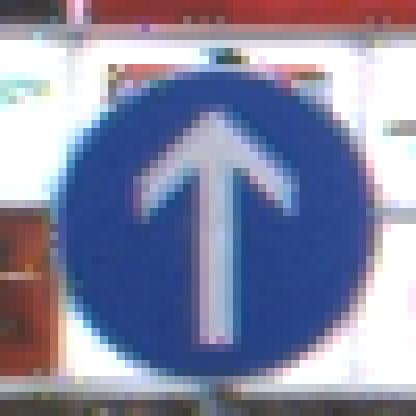AheadOnly: (51, 49, 375, 377)
